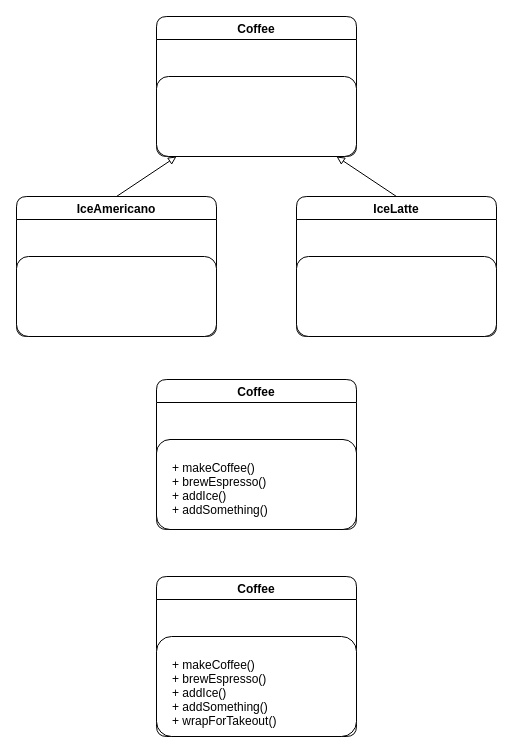
Image size: 513x753. Some labels were removed from this diagram. The shapes that lost their labels are listed below. From the top down, each one's centre as x and y in pixels, then its label:
the point at 256,116: + makeCoffee() + brewEspresso() + addIce()
the point at 116,296: + addWater()
the point at 396,296: + addMilk()
